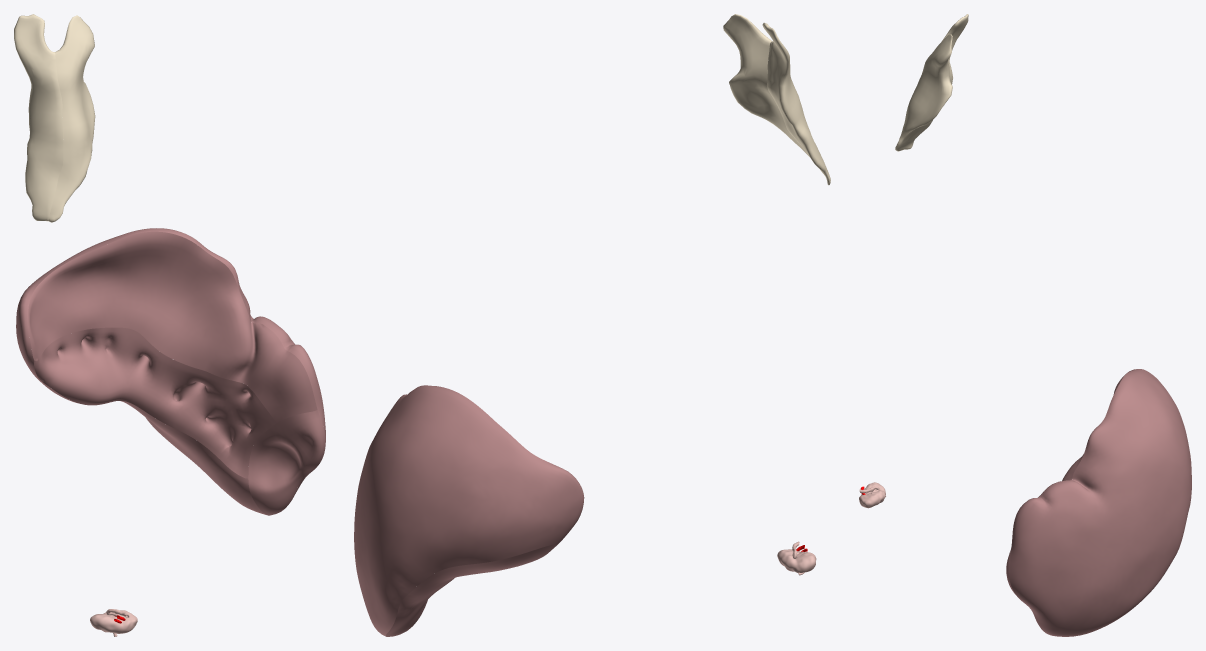
Rendered from lymphatic-meshopt.glb.
The picture shows the model from 3 angles, left to right: view 1: azimuth 30°, elevation 25°; view 2: azimuth 150°, elevation 25°; view 3: azimuth 270°, elevation 25°; orthographic projection. The views are drawn at different scales.
Parts seen in each view (by area): view 1: VH_M_gastric_surface_of_spleen, VH_M_hilum_of_spleen, VH_M_thymus_lobe_L, VH_M_colic_surface_of_spleen, VH_M_thymus_lobe_R, VH_M_diaphragmatic_surface_of_spleen, VH_M_renal_surface_of_spleen, Yao_capsule_of_lymph_node; view 2: VH_M_diaphragmatic_surface_of_spleen, VH_M_thymus_lobe_R, VH_M_thymus_lobe_L, VH_M_renal_surface_of_spleen, Yao_capsule_of_lymph_node; view 3: VH_M_diaphragmatic_surface_of_spleen, VH_M_thymus_lobe_R, VH_M_thymus_lobe_L.
Part boxes in pixels (bbox=[...]): VH_M_gastric_surface_of_spleen: bbox=[28, 231, 317, 422]; VH_M_hilum_of_spleen: bbox=[34, 327, 276, 478]; VH_M_thymus_lobe_L: bbox=[14, 14, 63, 221]; VH_M_colic_surface_of_spleen: bbox=[248, 410, 325, 515]; VH_M_thymus_lobe_R: bbox=[48, 15, 95, 222]; VH_M_diaphragmatic_surface_of_spleen: bbox=[16, 228, 325, 503]; VH_M_renal_surface_of_spleen: bbox=[38, 379, 266, 514]; Yao_capsule_of_lymph_node: bbox=[90, 610, 137, 633]; VH_M_diaphragmatic_surface_of_spleen: bbox=[354, 385, 584, 636]; VH_M_thymus_lobe_R: bbox=[723, 14, 809, 156]; VH_M_thymus_lobe_L: bbox=[762, 22, 830, 185]; VH_M_renal_surface_of_spleen: bbox=[386, 544, 557, 636]; Yao_capsule_of_lymph_node: bbox=[777, 549, 816, 572]; VH_M_diaphragmatic_surface_of_spleen: bbox=[1008, 369, 1191, 636]; VH_M_thymus_lobe_R: bbox=[895, 34, 952, 151]; VH_M_thymus_lobe_L: bbox=[902, 14, 968, 150].
Size of the model in its own units: 0.163 by 0.2651 by 0.1589.
